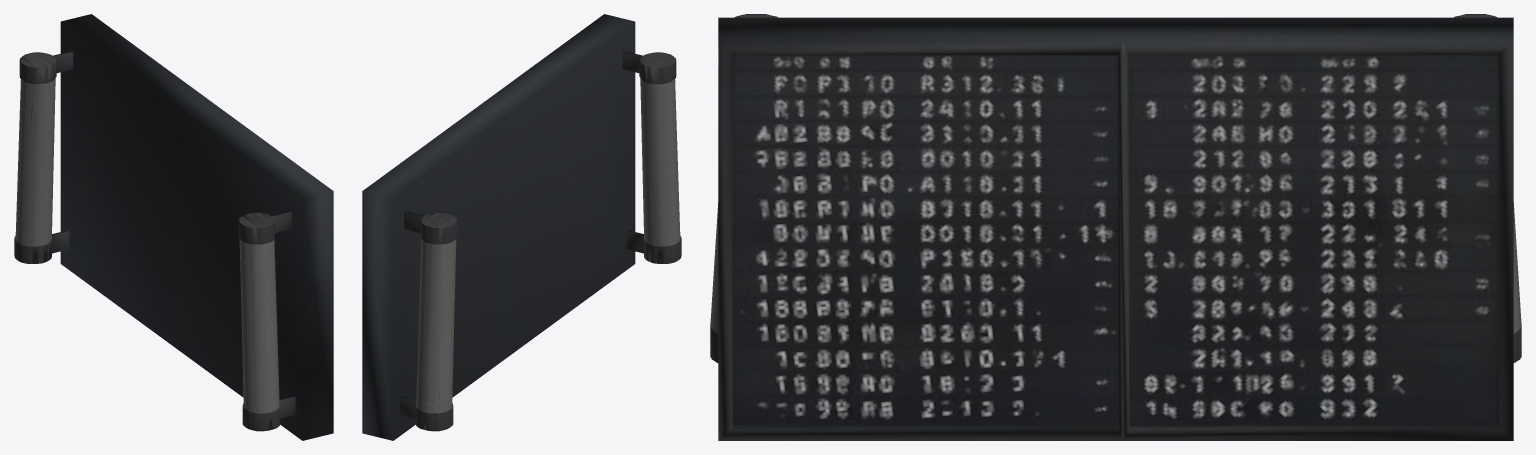
Rendered from flight-board.glb.
3 renders of one model, left to right at view 1: azimuth 30°, elevation 25°; view 2: azimuth 150°, elevation 25°; view 3: azimuth 270°, elevation 25°, orthographic. The views are drawn at different scales.
Visible parts, largest first — view 1: tripo_node_67bc8d0a-d746-43e5-bcea-68354f442fc7; view 2: tripo_node_67bc8d0a-d746-43e5-bcea-68354f442fc7; view 3: tripo_node_67bc8d0a-d746-43e5-bcea-68354f442fc7.
Part boxes in pixels (x1=…): tripo_node_67bc8d0a-d746-43e5-bcea-68354f442fc7: x1=14, y1=14, x2=333, y2=440; tripo_node_67bc8d0a-d746-43e5-bcea-68354f442fc7: x1=362, y1=14, x2=681, y2=440; tripo_node_67bc8d0a-d746-43e5-bcea-68354f442fc7: x1=710, y1=14, x2=1521, y2=440.
Size of the model in its own units: 0.1895 by 0.541 by 0.998.
Materials: 1 (1 with a texture image).
